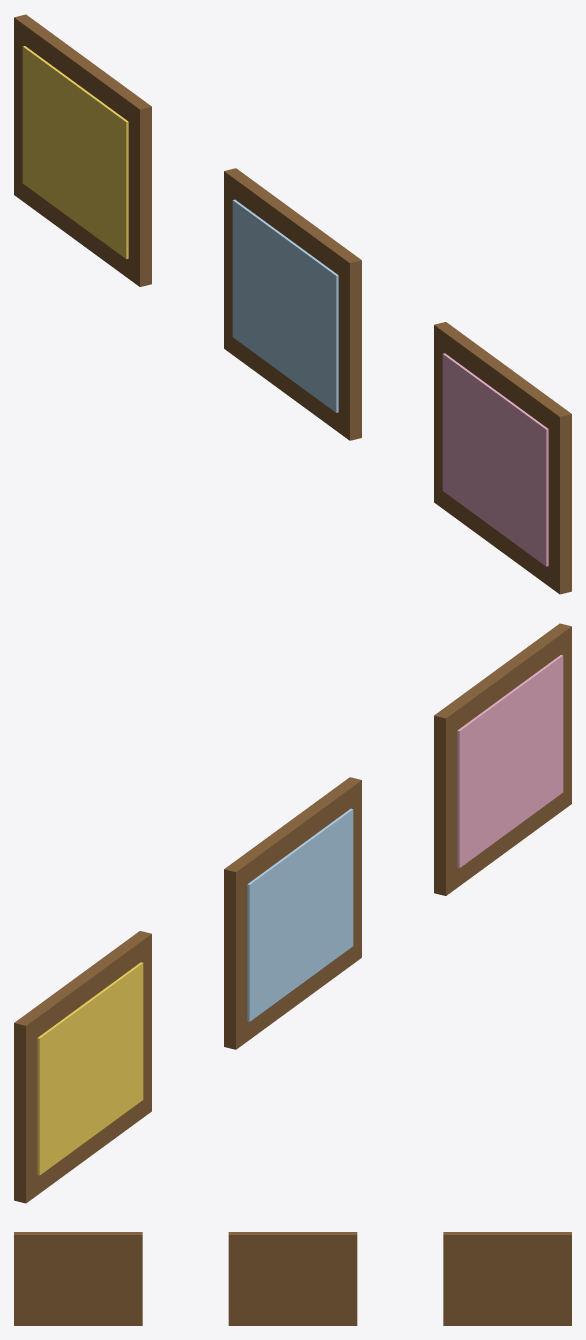
File: diner_photos.glb
The picture shows the model from 3 angles, top to bottom: view 1: azimuth 30°, elevation 25°; view 2: azimuth 150°, elevation 25°; view 3: azimuth 270°, elevation 25°; orthographic projection. The views are drawn at different scales.
Visible parts, largest first — view 1: diner_photos; view 2: diner_photos; view 3: diner_photos.
Boxes of the visible parts, box(x1,y1,x2,y2) form: diner_photos: box(14, 14, 571, 594); diner_photos: box(14, 623, 571, 1203); diner_photos: box(14, 1232, 571, 1325).
Size of the model in its own units: 0.06 by 0.7 by 3.9.
